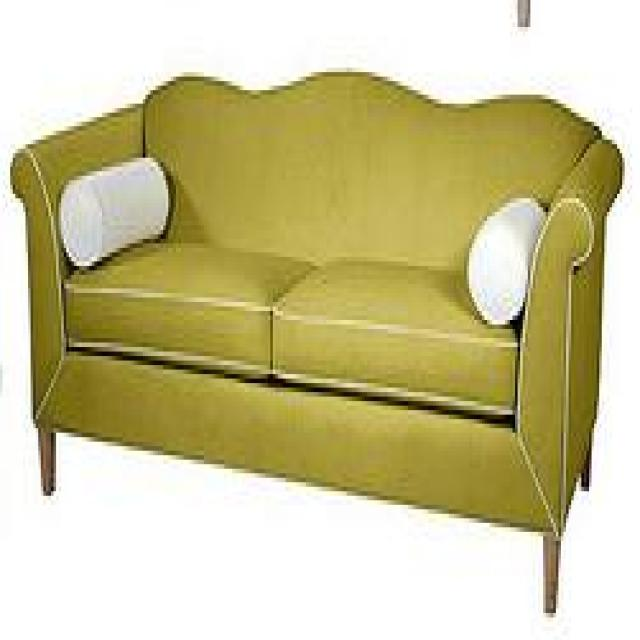sofa: (8, 63, 624, 613)
